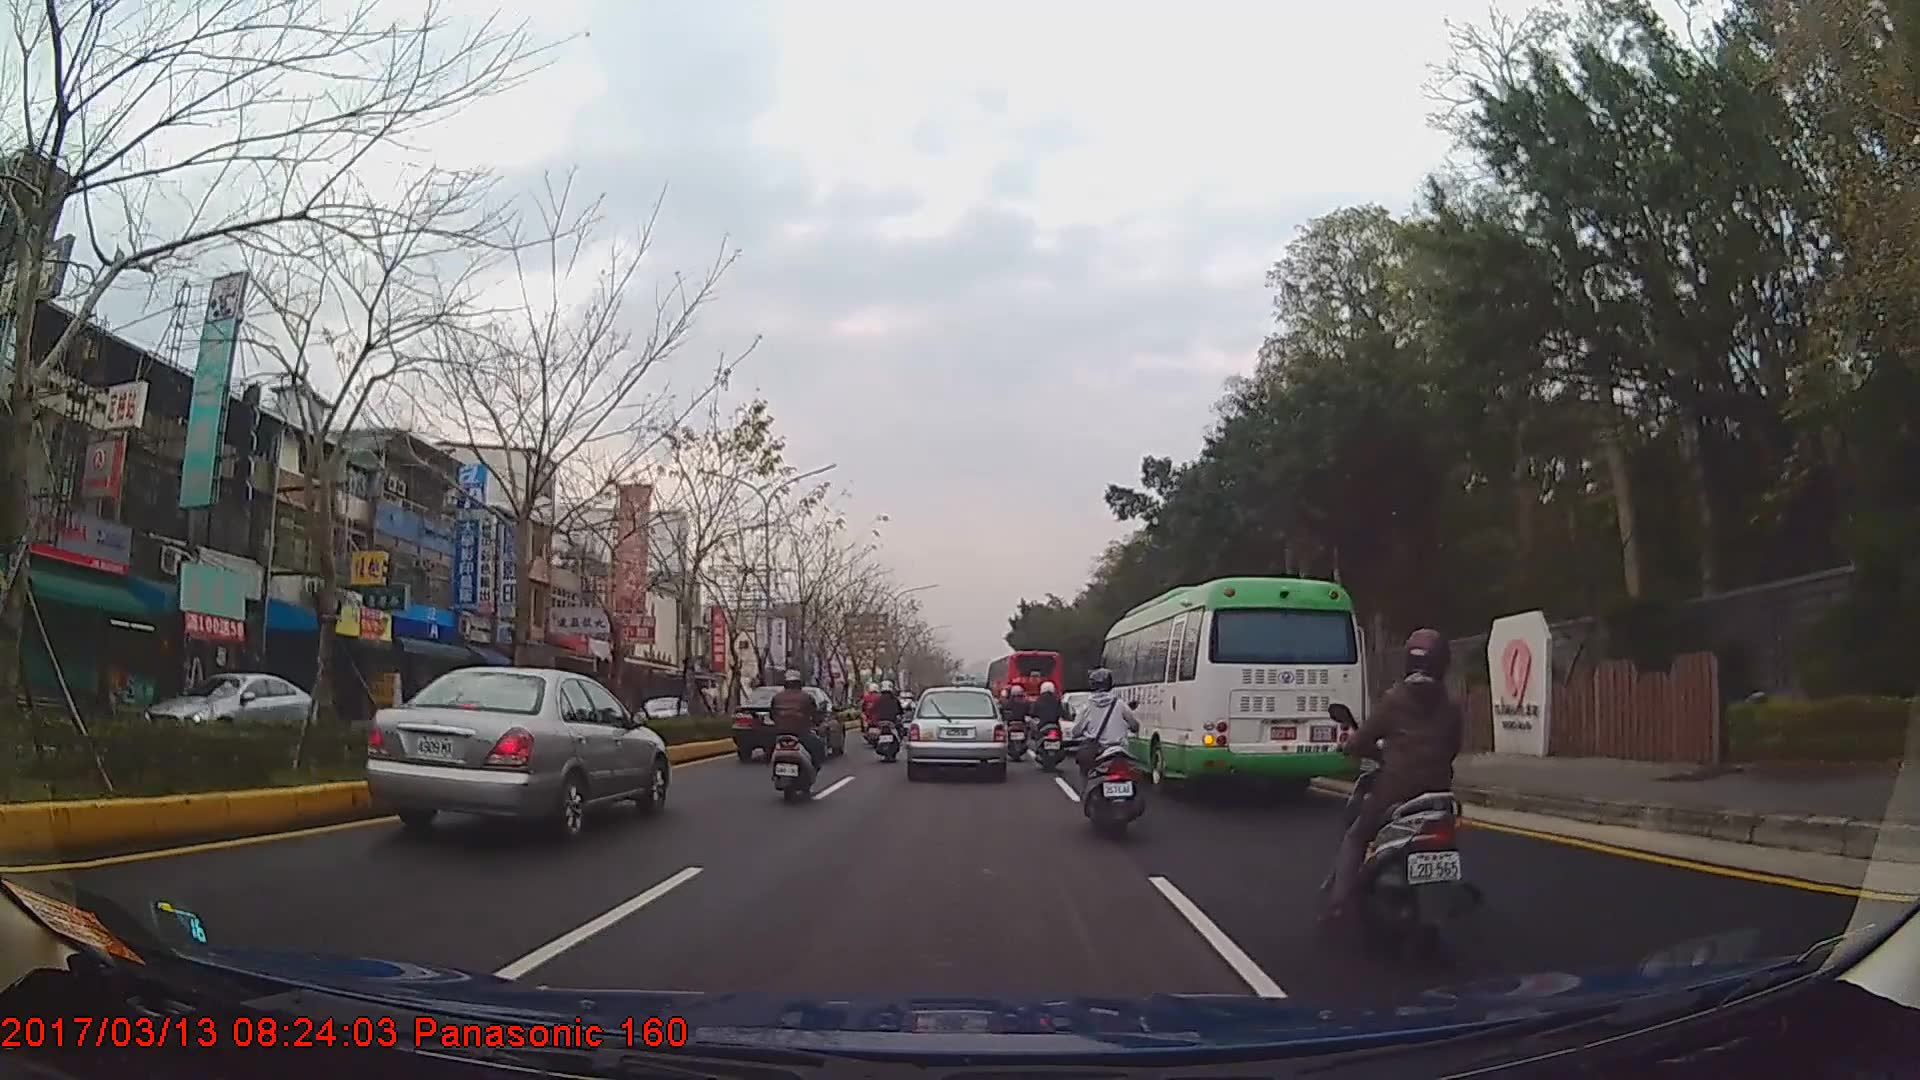rider: (1327, 623, 1479, 951), (1070, 665, 1141, 840), (766, 671, 830, 802), (1028, 680, 1066, 771), (870, 681, 906, 762), (998, 682, 1032, 761), (862, 684, 884, 747), (898, 692, 919, 742)
vehicle: (1092, 574, 1367, 791), (360, 660, 668, 840), (136, 666, 332, 757), (905, 685, 1007, 779), (730, 682, 845, 760), (985, 648, 1060, 736)
